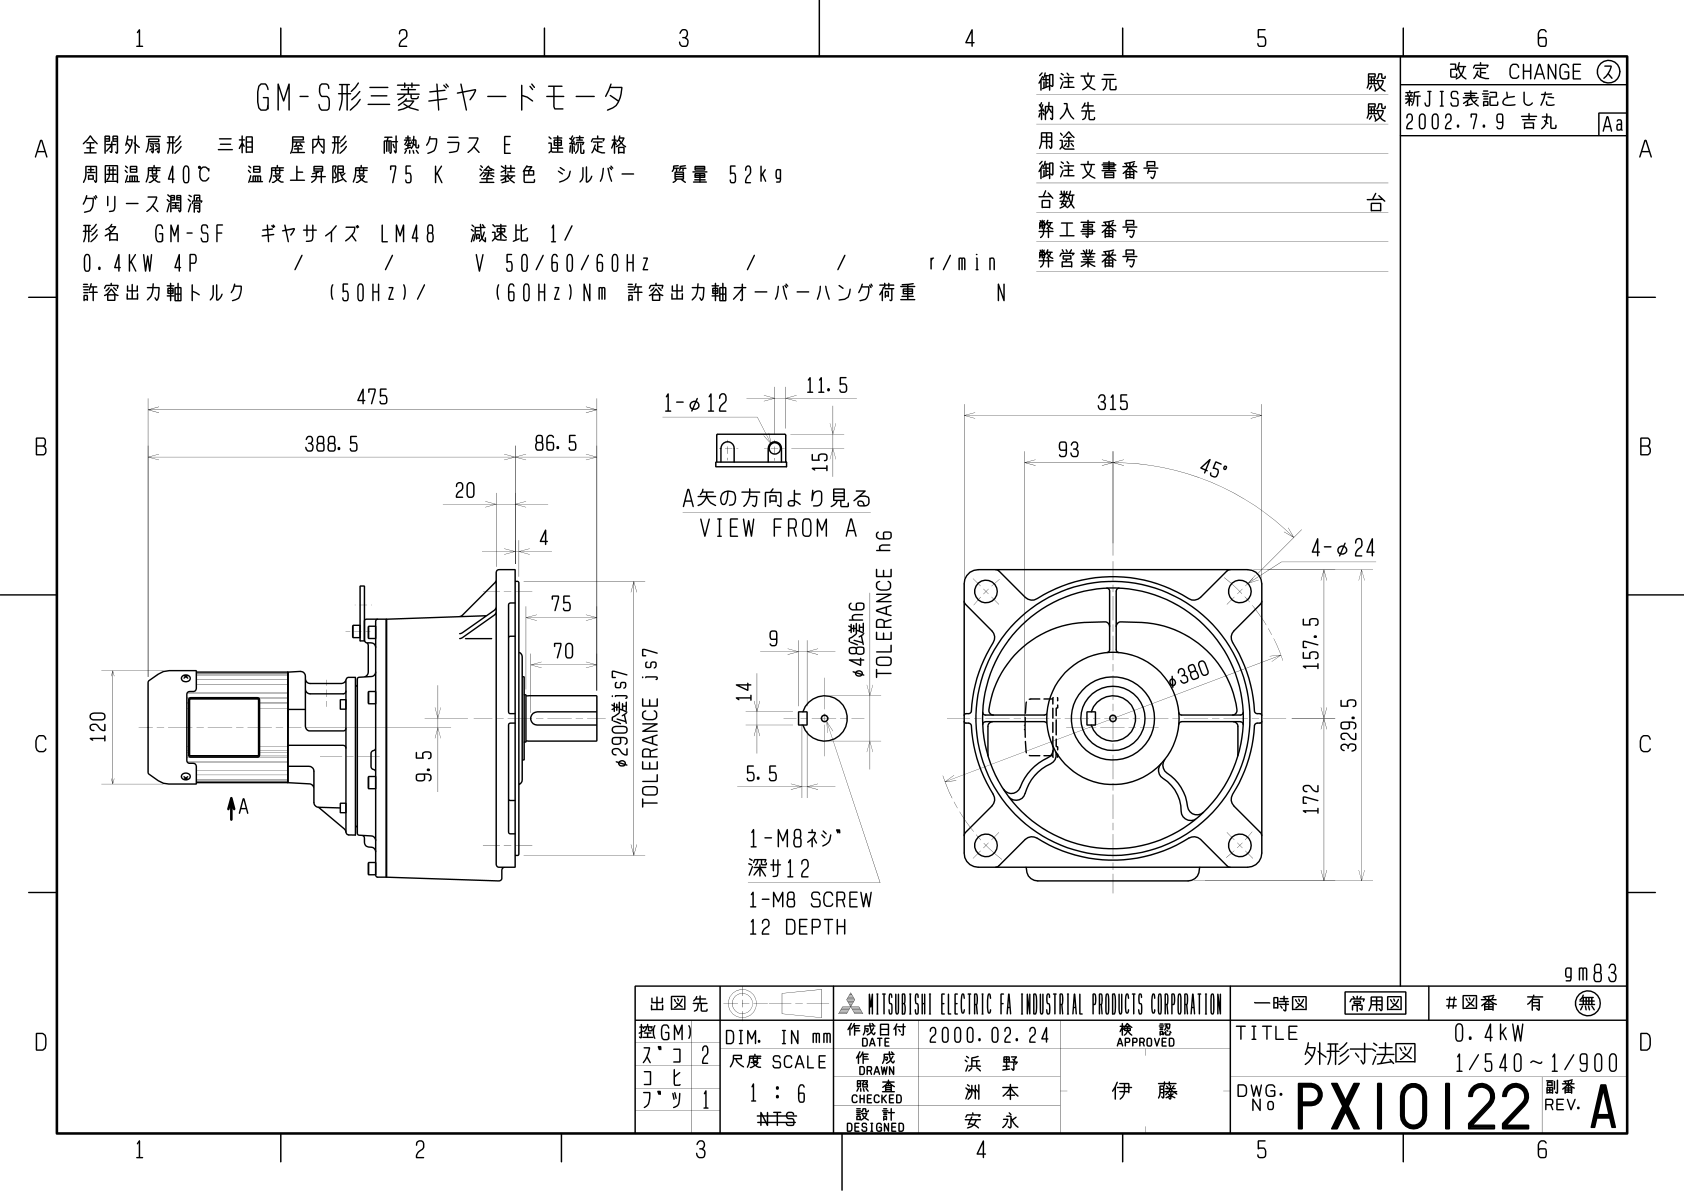GM_S_屋内＿三相_フランジ: (64, 335, 1393, 959)
